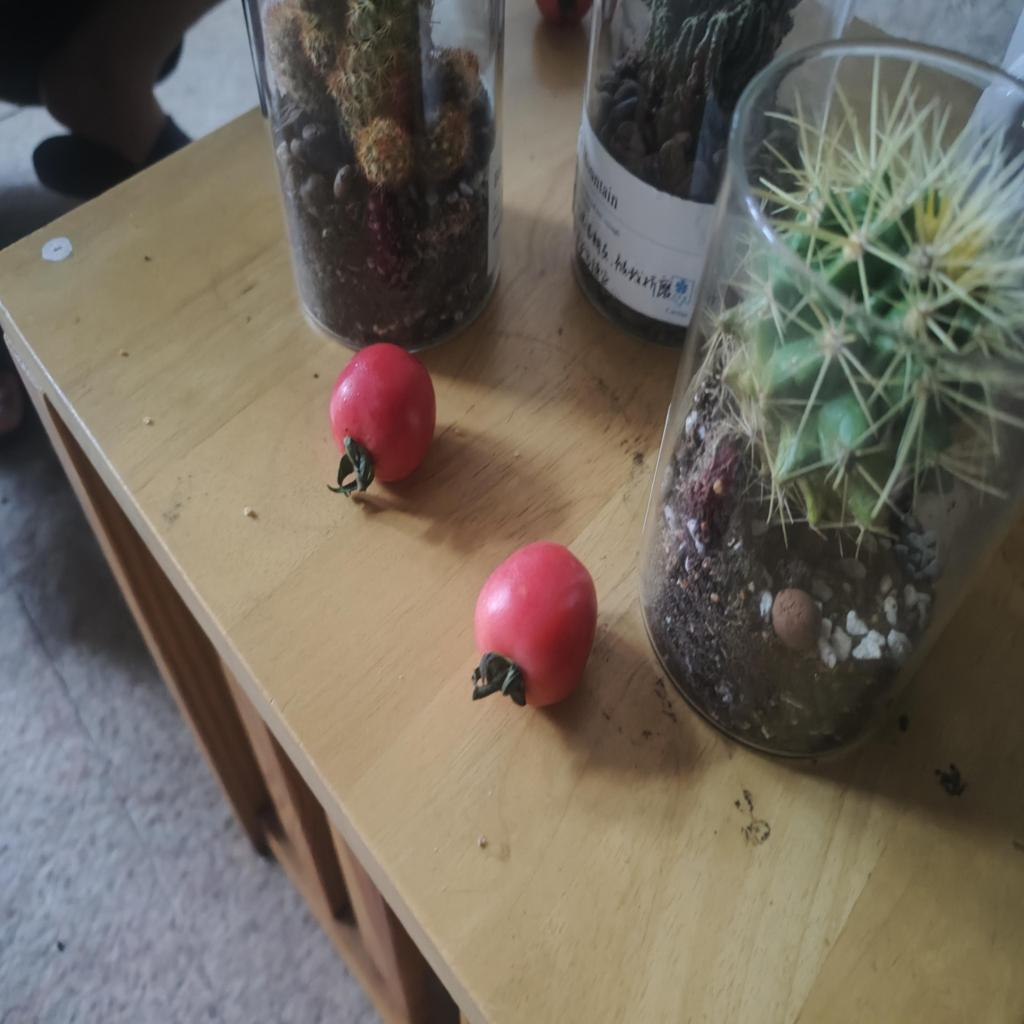tomato: (477, 537, 601, 708), (324, 350, 440, 484)
